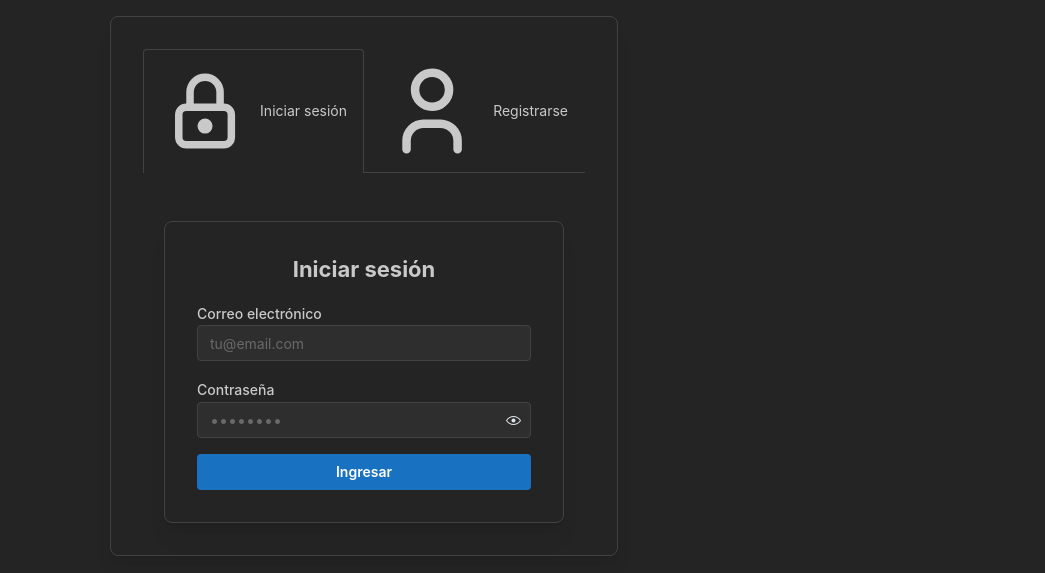
Test: Login flow › should show an error on invalid credentials
Type "invalid@example.com" into the field with test id "login-email" at (364, 344), box [197,326,531,362]
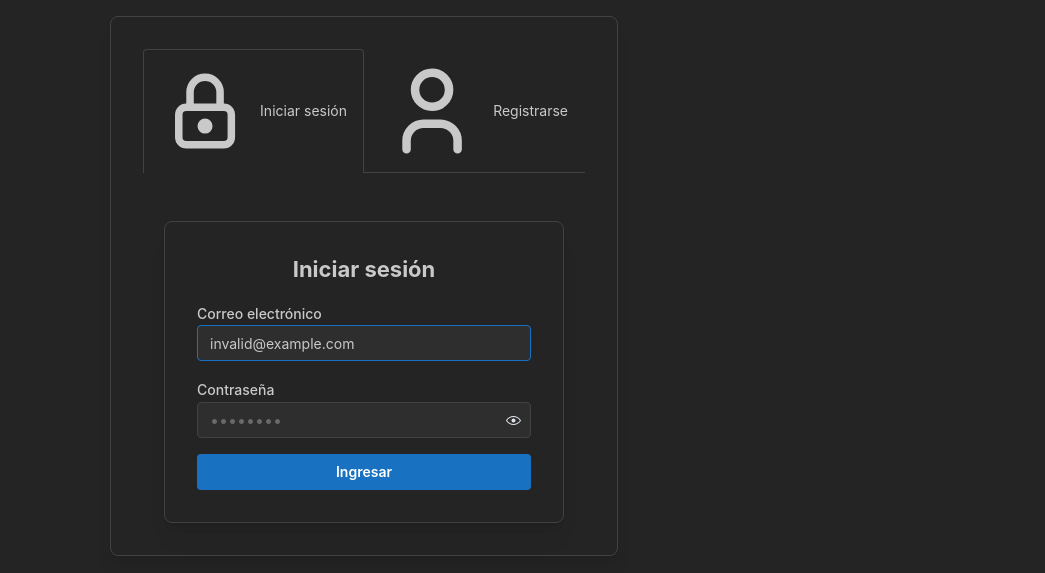
Type "wrongpass" into the password field with test id "login-password" at (364, 420), box [198,403,530,437]
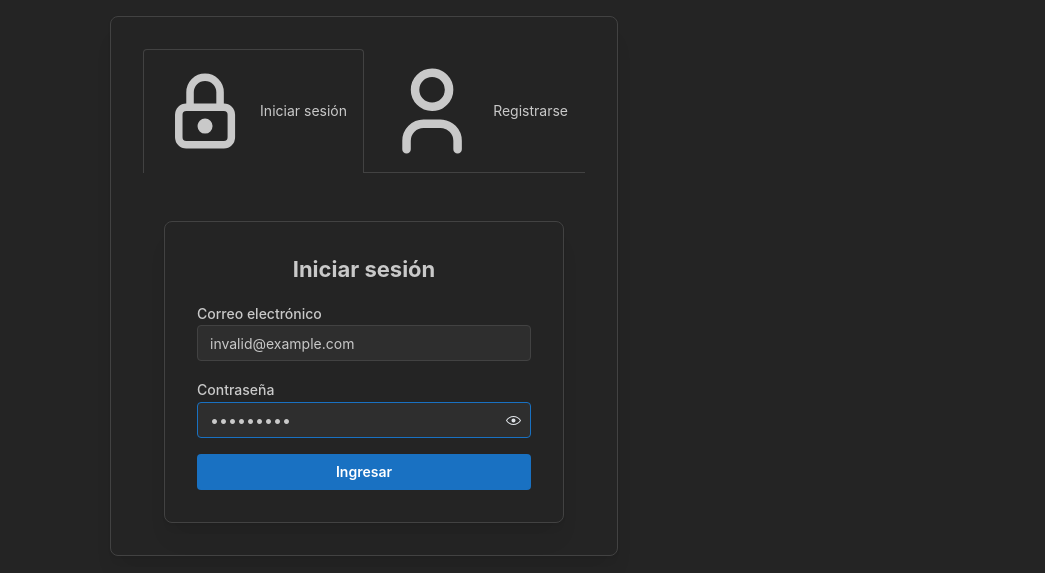
Click the button with test id "login-submit" at (364, 472), box [197,454,531,490]
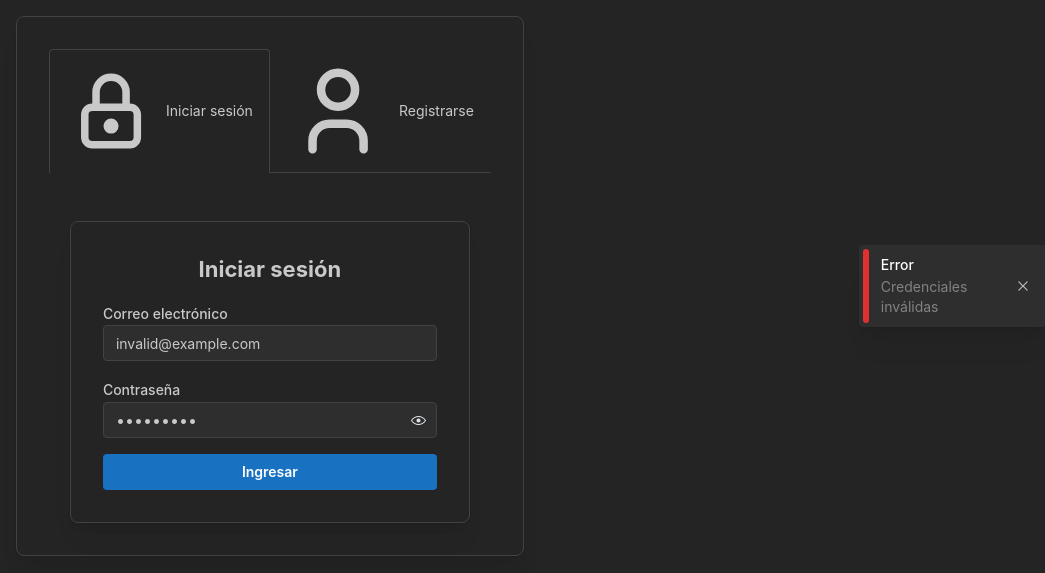
Result: the text "Credenciales inválidas" is shown at [881,278,967,315]
